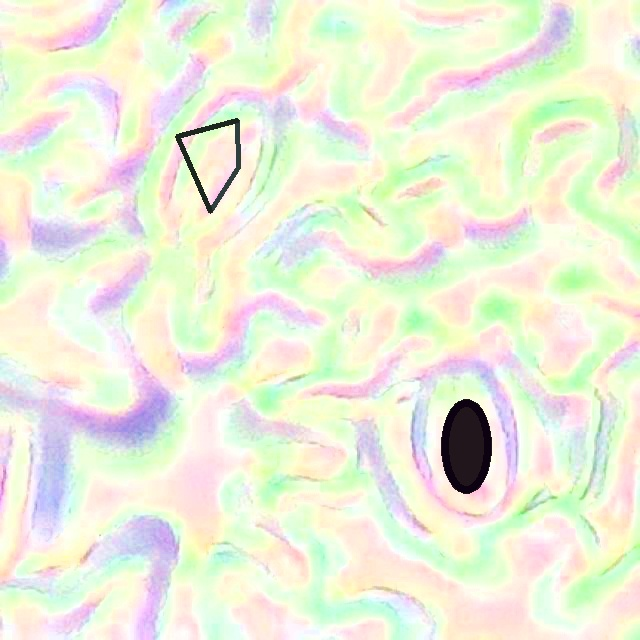close: (440, 399, 491, 492)
open: (175, 118, 240, 213)
